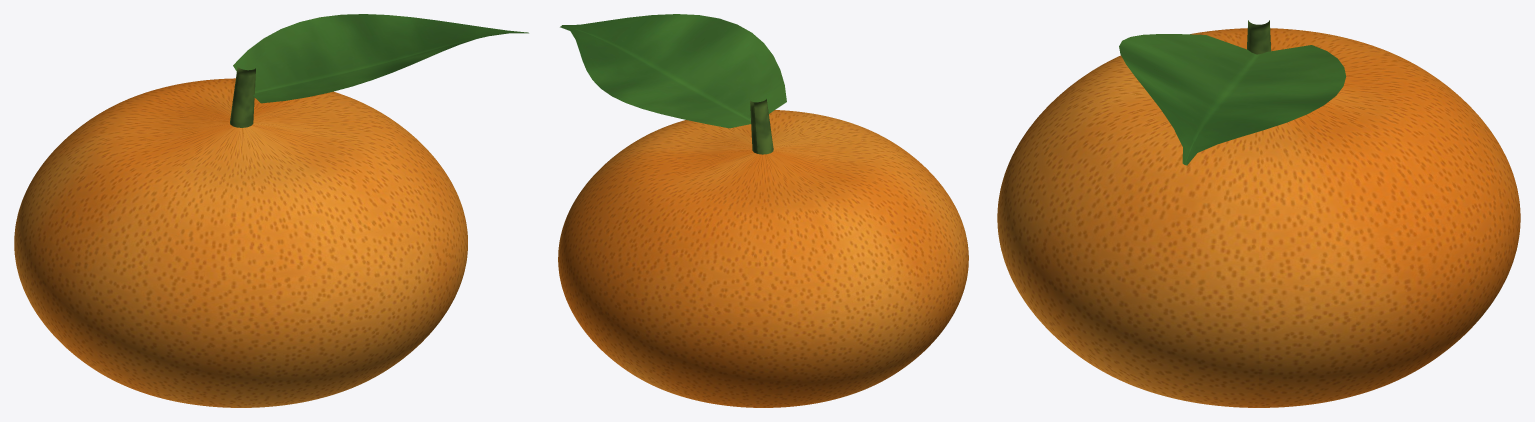
Rendered from mandarine.glb.
The picture shows the model from 3 angles, left to right: view 1: azimuth 30°, elevation 25°; view 2: azimuth 150°, elevation 25°; view 3: azimuth 270°, elevation 25°; orthographic projection. The views are drawn at different scales.
Parts seen in each view (by area): view 1: entier_peau, moitie_A_peau, entier_extra1, moitie_B_peau, entier_extra0; view 2: entier_peau, moitie_B_peau, entier_extra1, moitie_A_peau, entier_extra0; view 3: entier_peau, moitie_B_peau, moitie_A_peau, entier_extra1, entier_extra0.
Part boxes in pixels (left/top/right/bottom): entier_peau: left=14, top=78, right=467, bottom=407; moitie_A_peau: left=47, top=109, right=467, bottom=407; entier_extra1: left=233, top=14, right=528, bottom=103; moitie_B_peau: left=14, top=78, right=388, bottom=351; entier_extra0: left=230, top=66, right=255, bottom=127; entier_peau: left=558, top=110, right=968, bottom=407; moitie_B_peau: left=558, top=137, right=938, bottom=407; entier_extra1: left=560, top=14, right=786, bottom=128; moitie_A_peau: left=630, top=110, right=968, bottom=355; entier_extra0: left=750, top=99, right=773, bottom=154; entier_peau: left=998, top=28, right=1519, bottom=407; moitie_B_peau: left=1262, top=28, right=1520, bottom=407; moitie_A_peau: left=997, top=28, right=1255, bottom=407; entier_extra1: left=1119, top=34, right=1346, bottom=165; entier_extra0: left=1247, top=20, right=1271, bottom=54.
Bounding box in the file's own units: 0.0784 × 0.0524 × 0.068.
4 materials, 4 textured.
